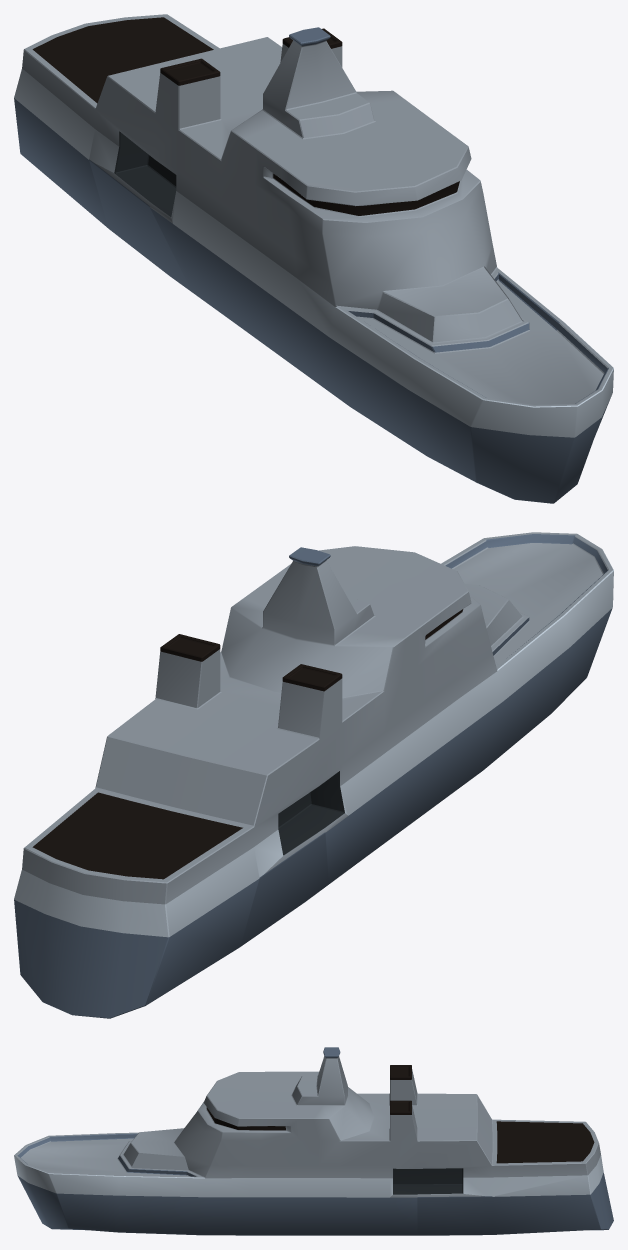
The model's file is MARINE_Player_Boat_02.fbx.
3 views of the same model, one above another, from view 1: azimuth 30°, elevation 25°; view 2: azimuth 150°, elevation 25°; view 3: azimuth 270°, elevation 25° (orthographic). The views are drawn at different scales.
Parts seen in each view (by area): view 1: player_Boot.001; view 2: player_Boot.001; view 3: player_Boot.001.
Part boxes in pixels (x1,y1,x2,y2): player_Boot.001: [14, 14, 613, 503]; player_Boot.001: [14, 532, 613, 1018]; player_Boot.001: [14, 1047, 613, 1235].
Bounding box in the file's own units: 330 × 524 × 1642.
